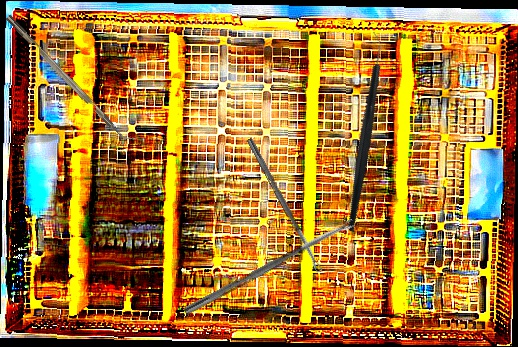Chopper: (279, 29, 446, 234), (5, 8, 138, 149)
Surgical Spoon: (183, 218, 356, 317), (245, 137, 323, 274)
